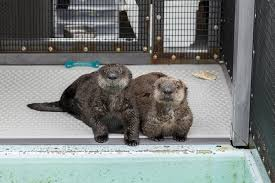otter: (76, 48, 144, 124), (148, 63, 211, 133)
